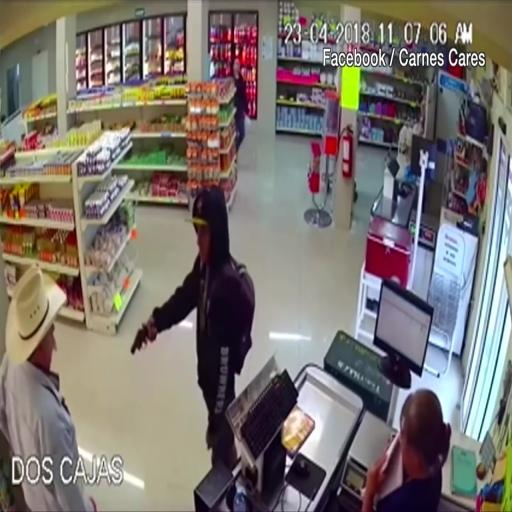Guns: (129, 325, 150, 354)
